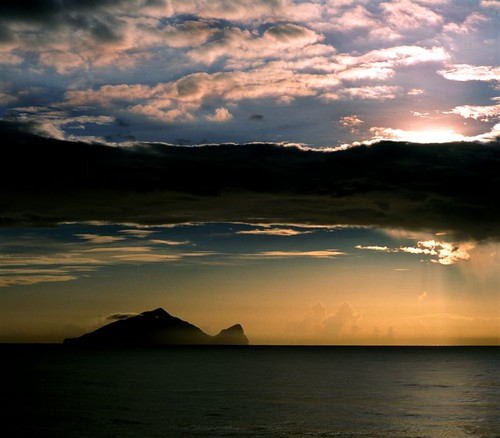turtleIsland: (62, 306, 250, 347)
